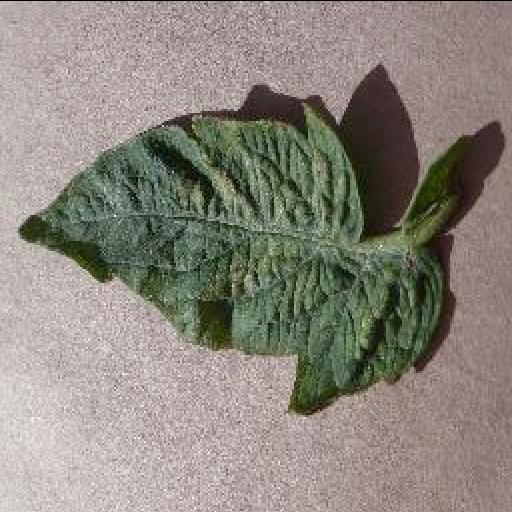disease_tomato: (13, 101, 451, 413)
